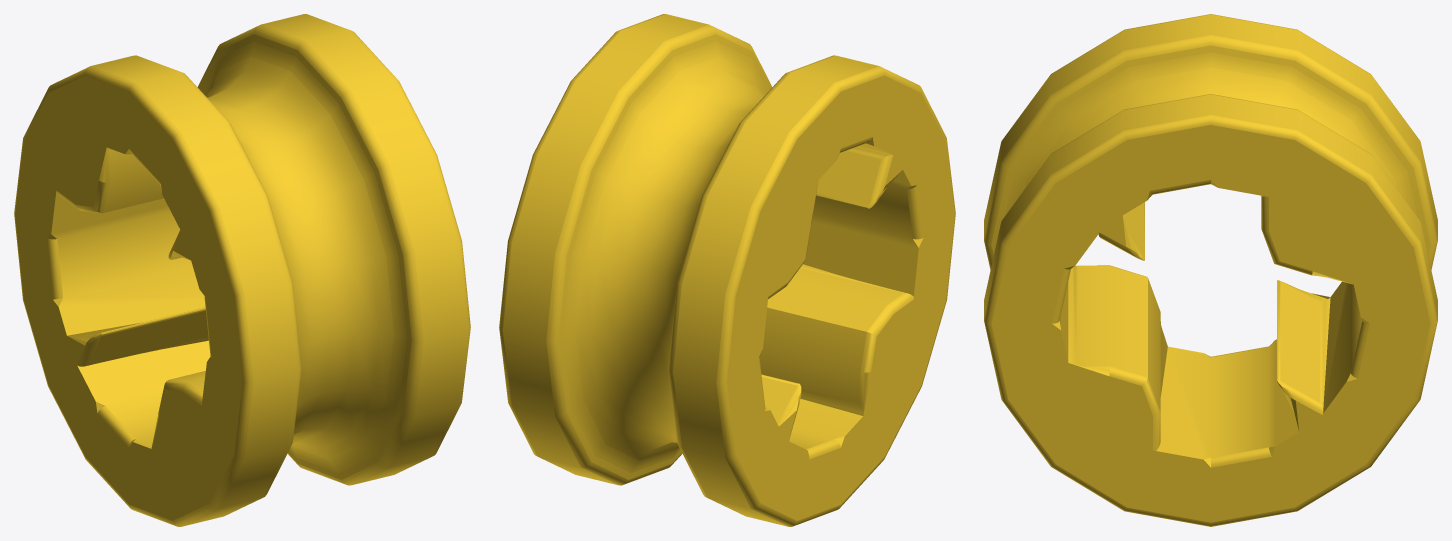
The model's file is yellowwasher.glb.
3 renders of one model, left to right at view 1: azimuth 30°, elevation 25°; view 2: azimuth 150°, elevation 25°; view 3: azimuth 270°, elevation 25°, orthographic. The views are drawn at different scales.
Parts seen in each view (by area): view 1: 00001_32123a.dat; view 2: 00001_32123a.dat; view 3: 00001_32123a.dat.
Boxes of the visible parts, <box> form: 00001_32123a.dat: <box>14,14,470,526</box>; 00001_32123a.dat: <box>499,14,955,526</box>; 00001_32123a.dat: <box>984,14,1437,526</box>.
Bounding box in the file's own units: 0.4 × 0.72 × 0.72.
